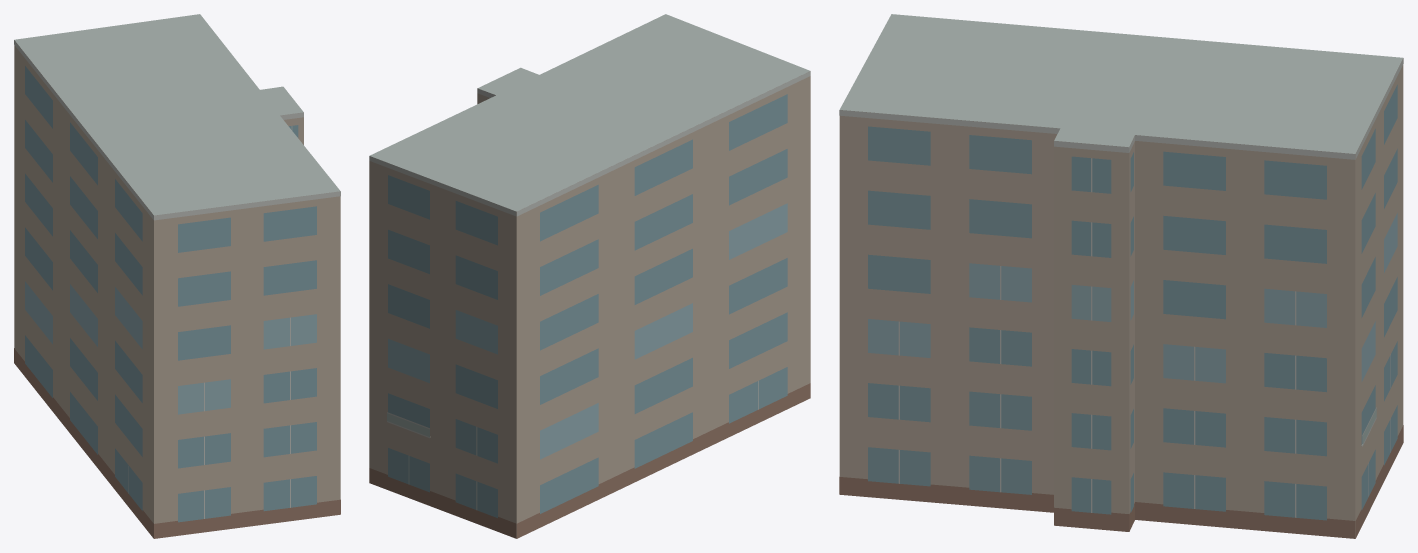
File: survey-upis-32532482.glb
3 views of the same model, side by side, from view 1: azimuth 30°, elevation 25°; view 2: azimuth 150°, elevation 25°; view 3: azimuth 270°, elevation 25° (orthographic). The views are drawn at different scales.
Parts seen in each view (by area): view 1: survey-upis-32532482.tmp; view 2: survey-upis-32532482.tmp; view 3: survey-upis-32532482.tmp.
Boxes of the visible parts, left/top/right/bottom form: survey-upis-32532482.tmp: left=14, top=14, right=340, bottom=538; survey-upis-32532482.tmp: left=369, top=14, right=810, bottom=538; survey-upis-32532482.tmp: left=839, top=14, right=1403, bottom=538.
Bounding box in the file's own units: 12.49 × 16 × 21.26.
